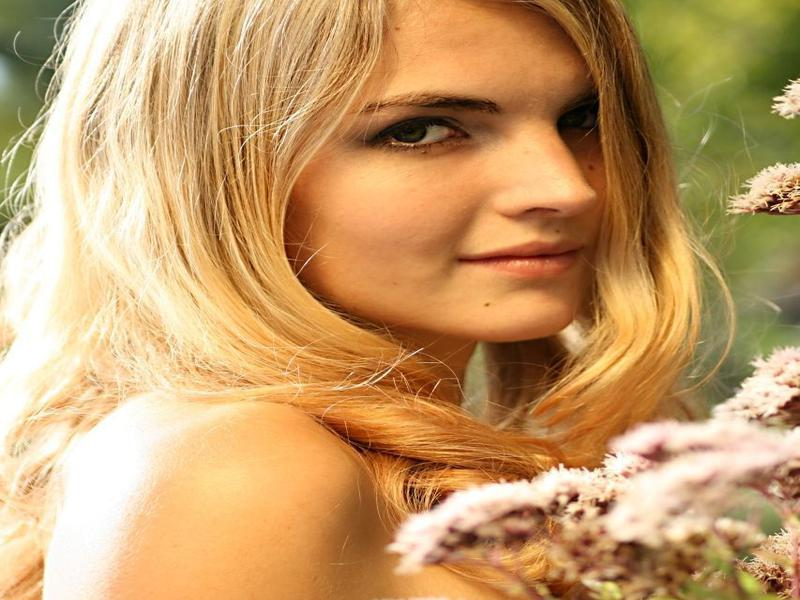person: (1, 5, 726, 600)
